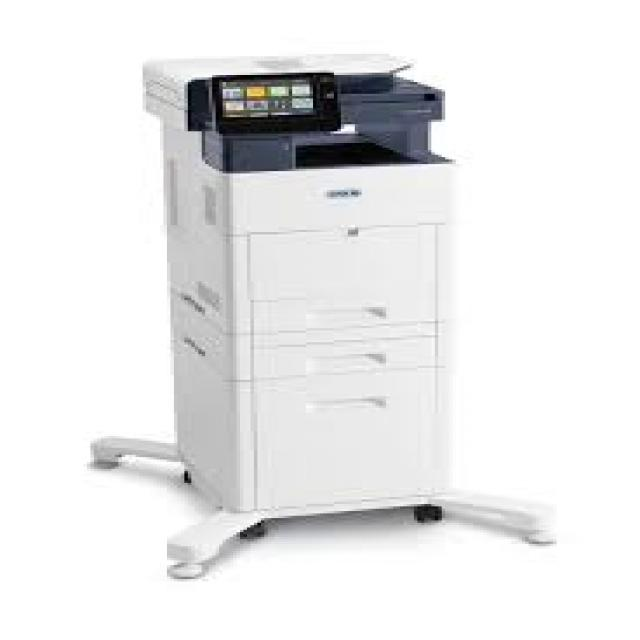printer: (52, 40, 617, 610)
